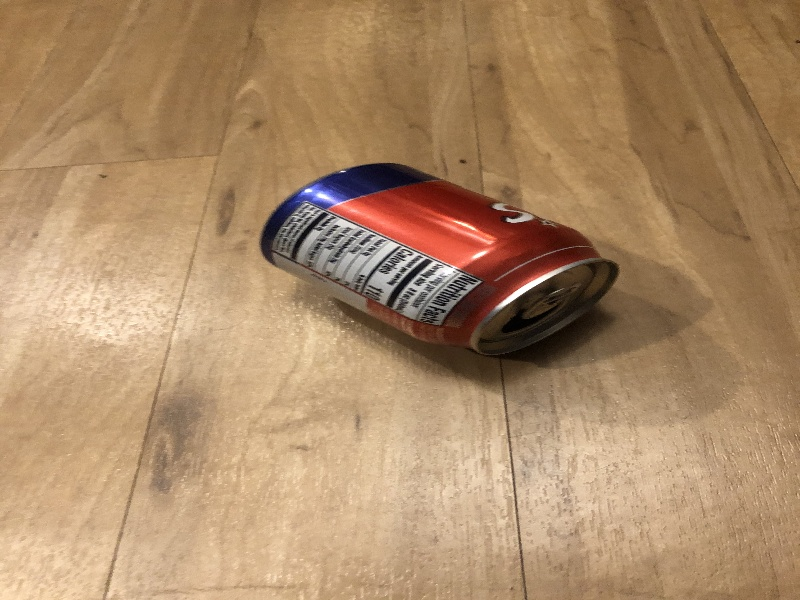metal: (258, 161, 629, 359)
